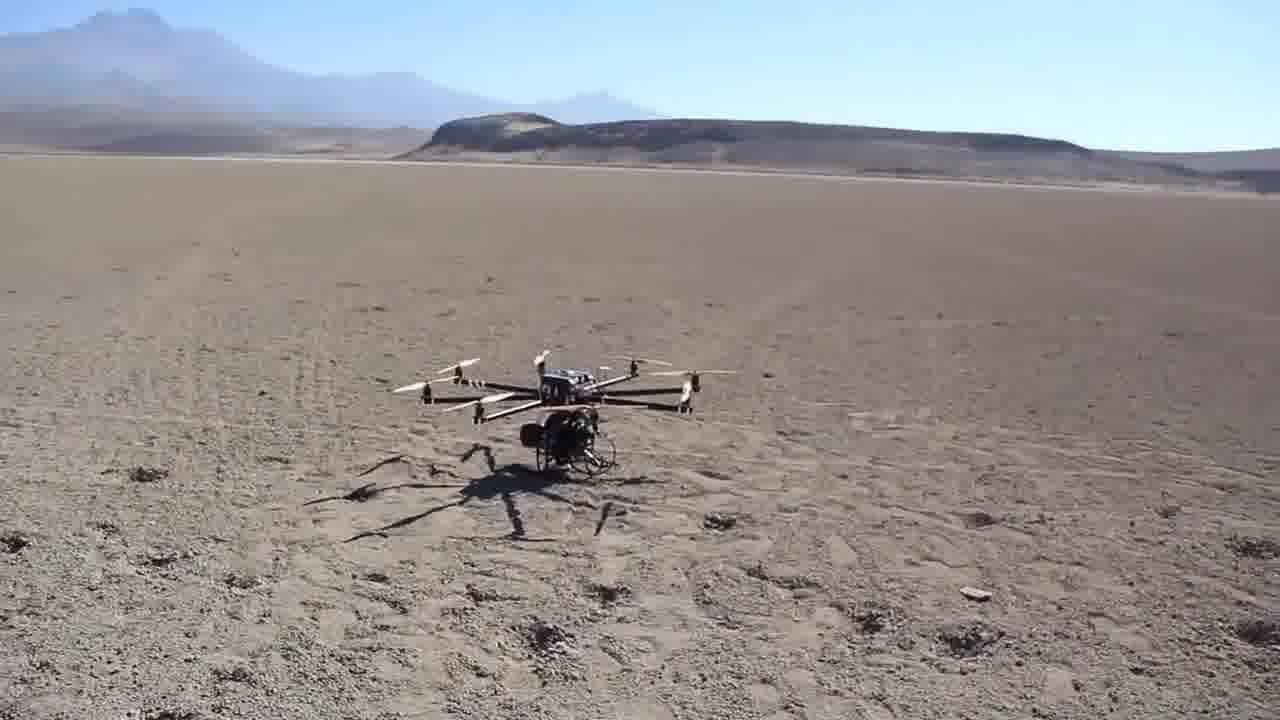drone: (375, 332, 713, 487)
